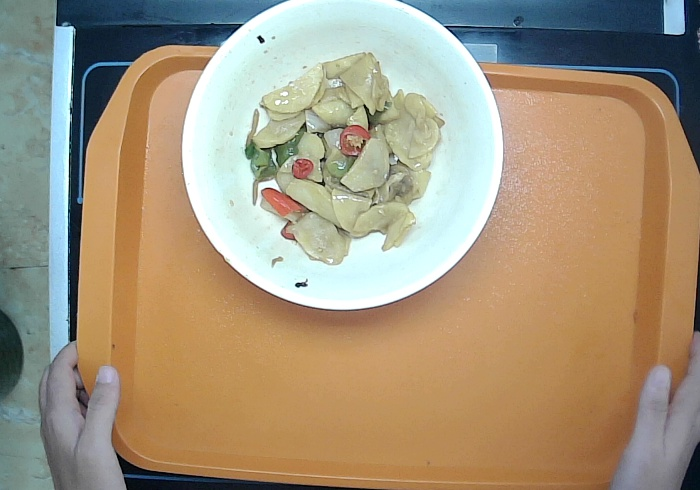ZNLD-Da_Tang_Wan: (178, 1, 504, 312)
